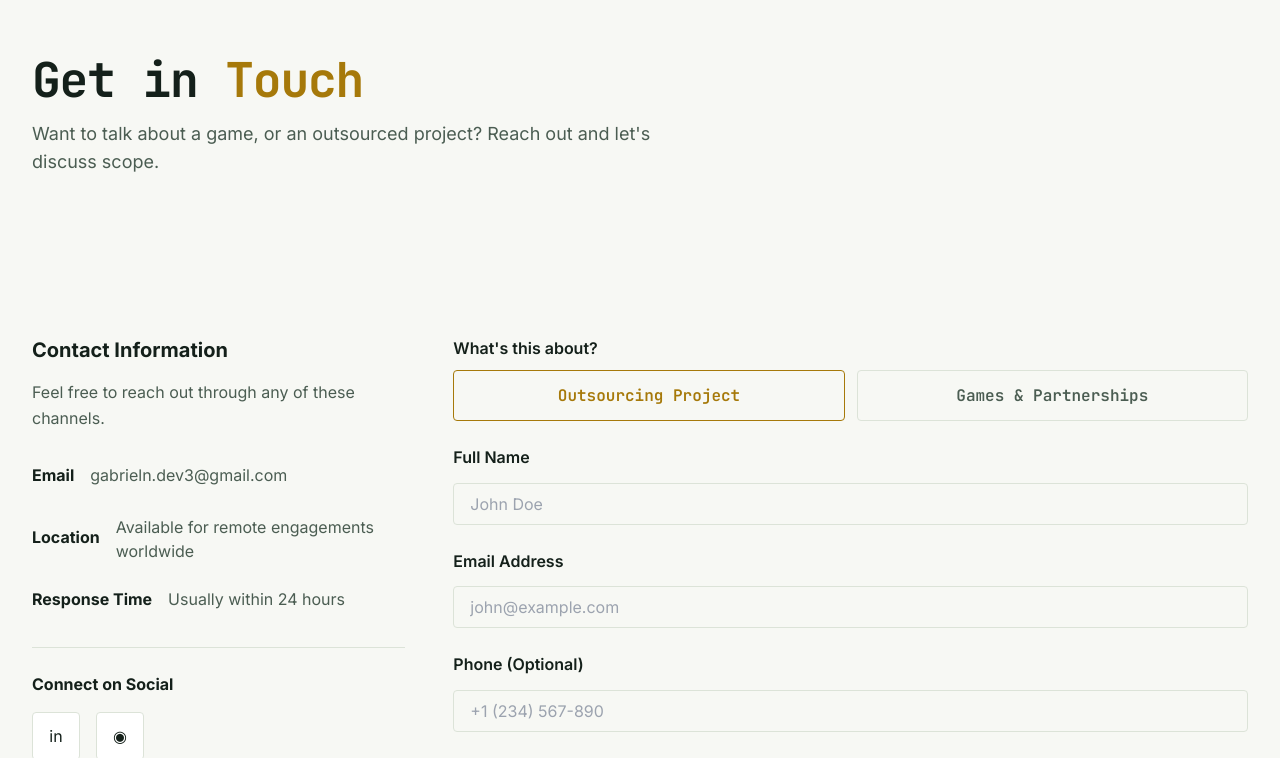
Test case: Contact › rejects an invalid email format
Type "invalid@localhost" into the field labelled "Email Address".
click(851, 607); type("invalid@localhost")  # box [453, 586, 1248, 628]
(page scrolled)
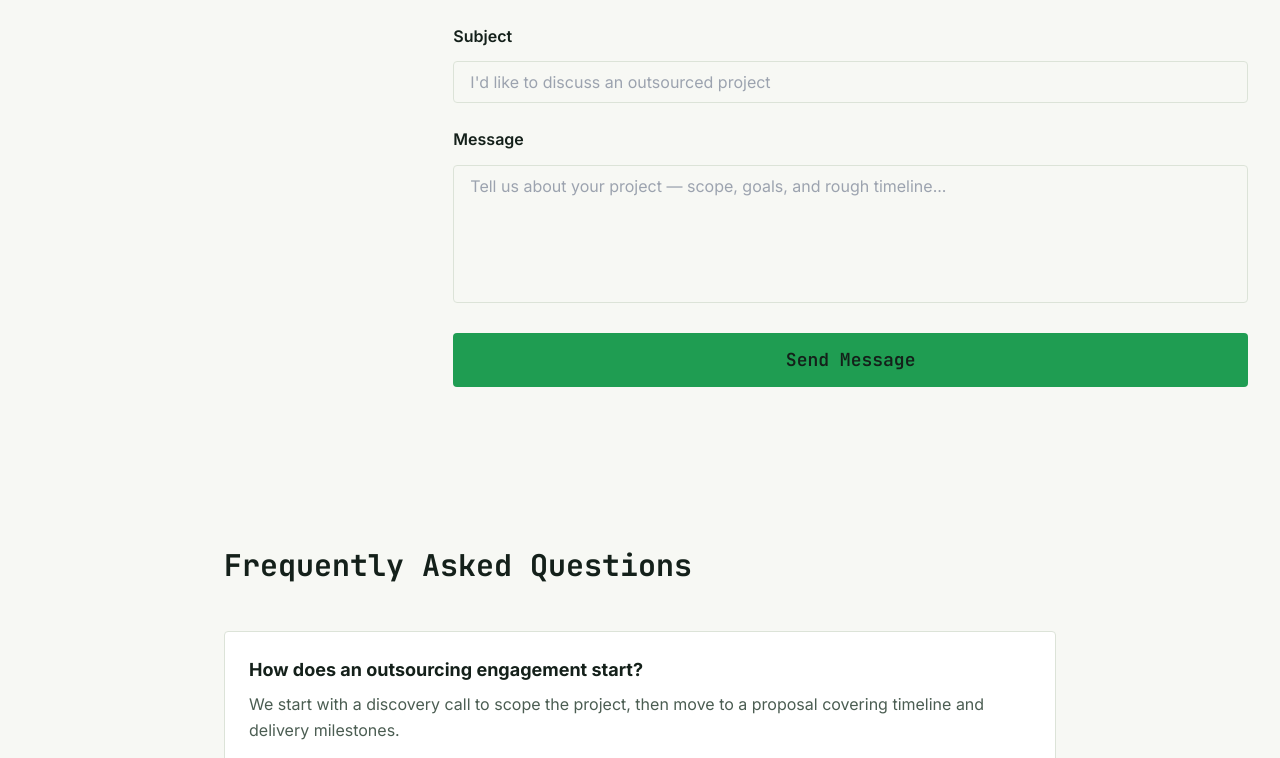
Click the button "Send Message".
click(851, 360)  # box [453, 333, 1248, 387]
(page scrolled)
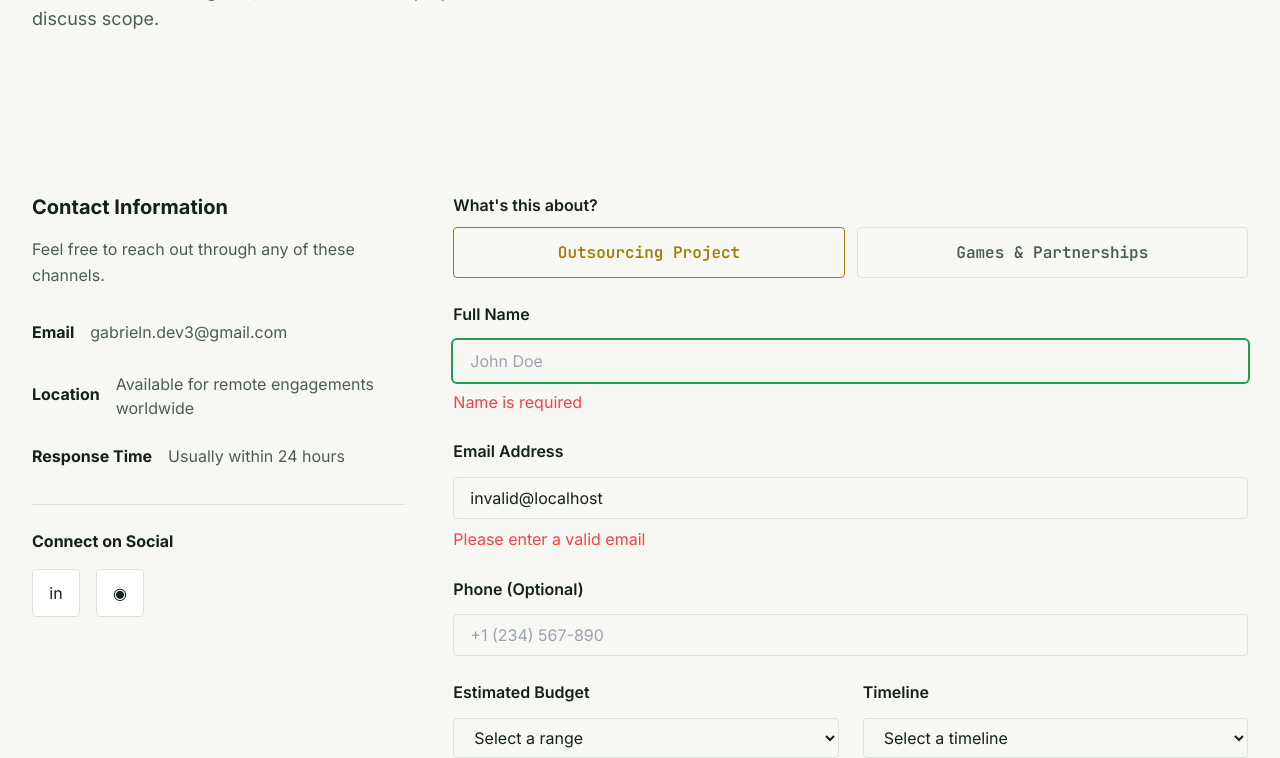
expect the text "Please enter a valid email" is shown: met, box [453, 529, 645, 549]
